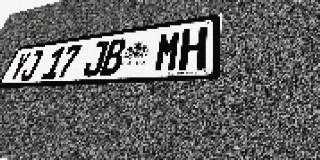1: (41, 46, 68, 80)
7: (55, 44, 82, 79)
B: (99, 38, 128, 76)
H: (178, 26, 208, 71)
J: (81, 40, 110, 77), (18, 50, 44, 81)
M: (153, 30, 182, 72)
Y: (7, 52, 32, 82)
